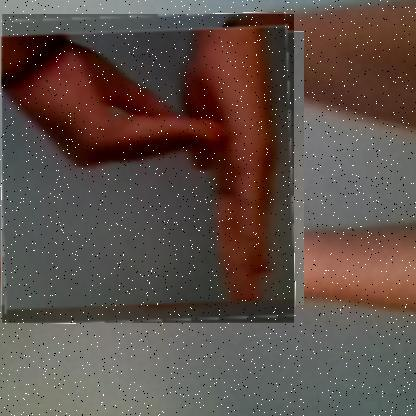Z: (1, 14, 294, 324)
